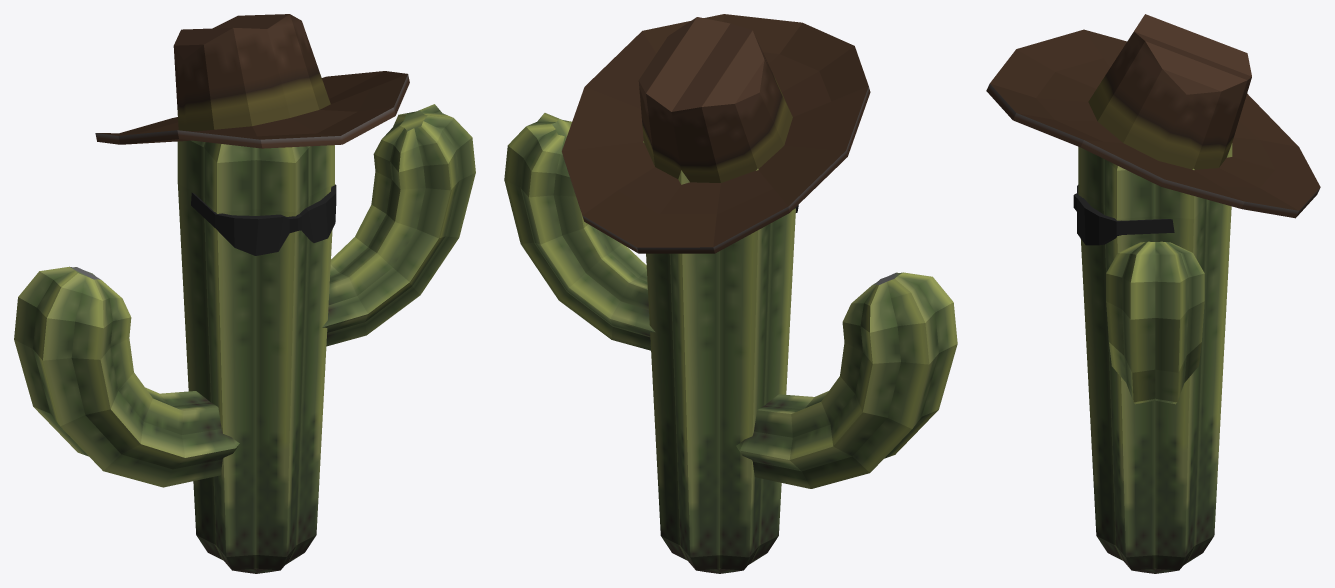
File: Carlos.fbx
3 views of the same model, side by side, from view 1: azimuth 30°, elevation 25°; view 2: azimuth 150°, elevation 25°; view 3: azimuth 270°, elevation 25° (orthographic).
Visible parts, largest first — view 1: Cylinder, Cylinder.006, Cylinder.005, Cylinder.007, Gafas; view 2: Cylinder.005, Cylinder, Cylinder.006, Cylinder.007; view 3: Cylinder.005, Cylinder, Cylinder.007, Gafas.
Boxes of the visible parts, <box> form: Cylinder: <box>177,140,334,573</box>; Cylinder.006: <box>14,266,239,487</box>; Cylinder.005: <box>95,14,409,148</box>; Cylinder.007: <box>322,104,475,346</box>; Gafas: <box>191,184,336,255</box>; Cylinder.005: <box>562,14,870,253</box>; Cylinder: <box>643,141,795,573</box>; Cylinder.006: <box>736,272,957,488</box>; Cylinder.007: <box>504,113,655,350</box>; Cylinder.005: <box>986,14,1320,218</box>; Cylinder: <box>1078,143,1232,573</box>; Cylinder.007: <box>1106,241,1204,404</box>; Gafas: <box>1073,185,1174,245</box>.
Bounding box in the file's own units: 564 × 675 × 383.
